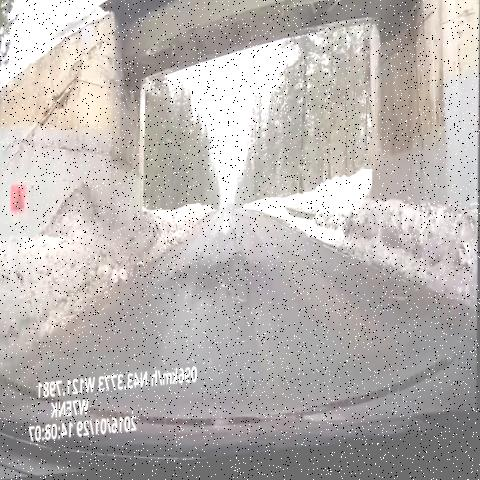pothole: (193, 249, 262, 328)
